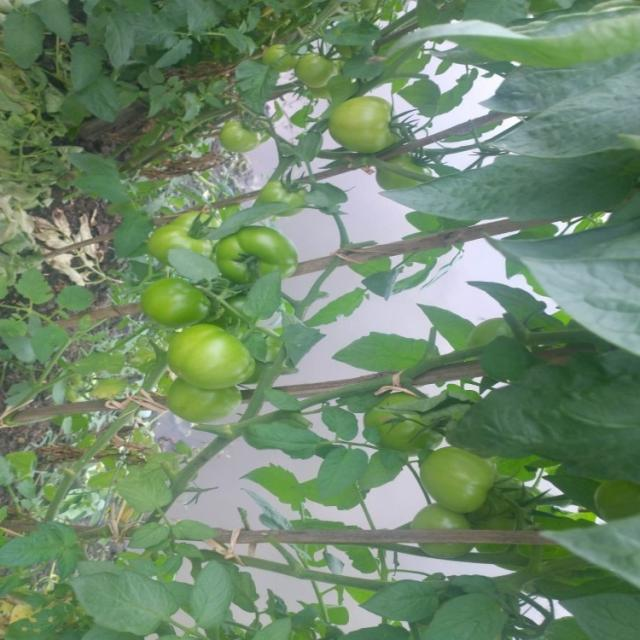tomato: (153, 367, 258, 444), (162, 316, 257, 397), (204, 222, 311, 293), (320, 95, 407, 173), (414, 437, 503, 509), (366, 393, 442, 459), (124, 275, 200, 341), (293, 46, 353, 111), (265, 178, 326, 228), (378, 154, 434, 204), (134, 200, 193, 245), (255, 34, 303, 75), (211, 121, 258, 157)
